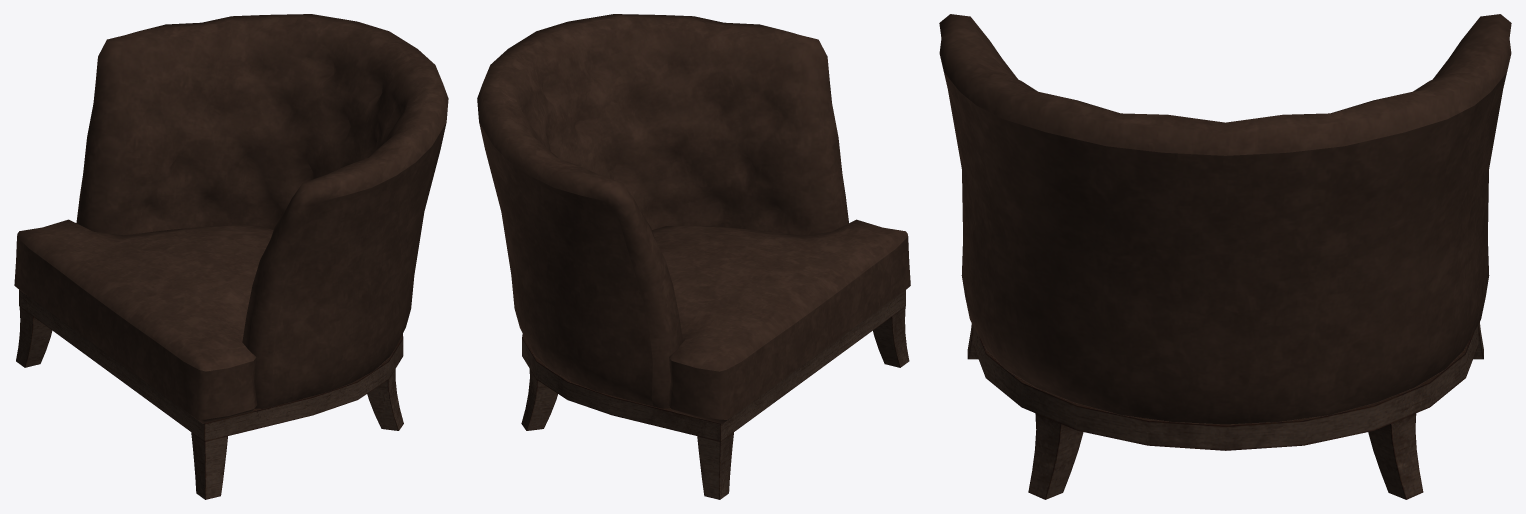
The model's file is chair_1.fbx.
The picture shows the model from 3 angles, left to right: view 1: azimuth 30°, elevation 25°; view 2: azimuth 150°, elevation 25°; view 3: azimuth 270°, elevation 25°; orthographic projection. The views are drawn at different scales.
Parts seen in each view (by area): view 1: Object_2; view 2: Object_2; view 3: Object_2.
Part boxes in pixels (x1,y1,x2,y2): Object_2: (14, 14, 448, 499); Object_2: (477, 14, 910, 499); Object_2: (939, 14, 1511, 499).
Bounding box in the file's own units: 9537 × 8936 × 10943.
1 material, 1 textured.
